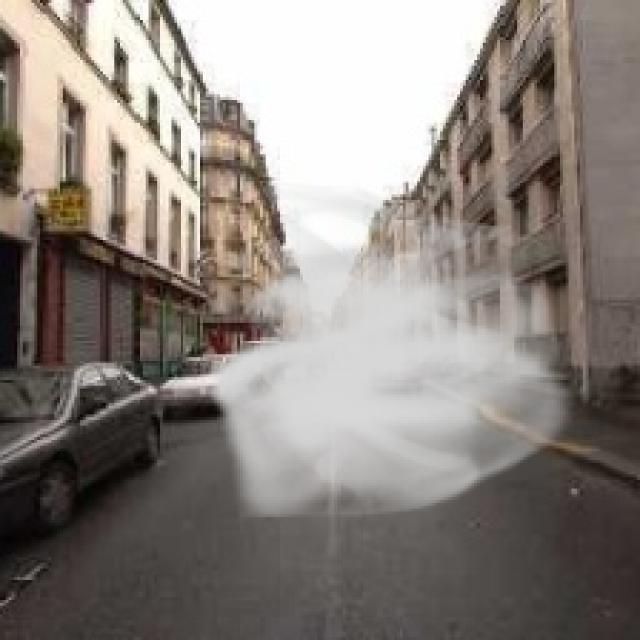smoke: (205, 180, 586, 529)
